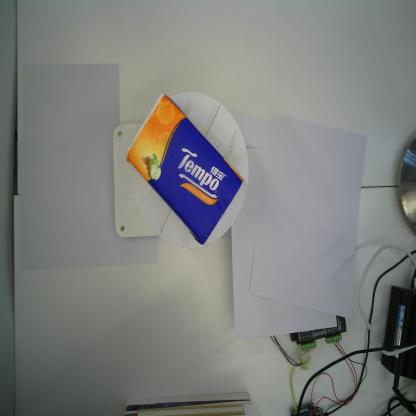Tissue: (126, 91, 244, 245)
